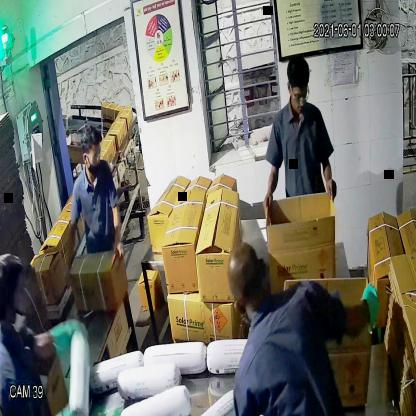goggles: (284, 80, 314, 107), (78, 146, 105, 169)
